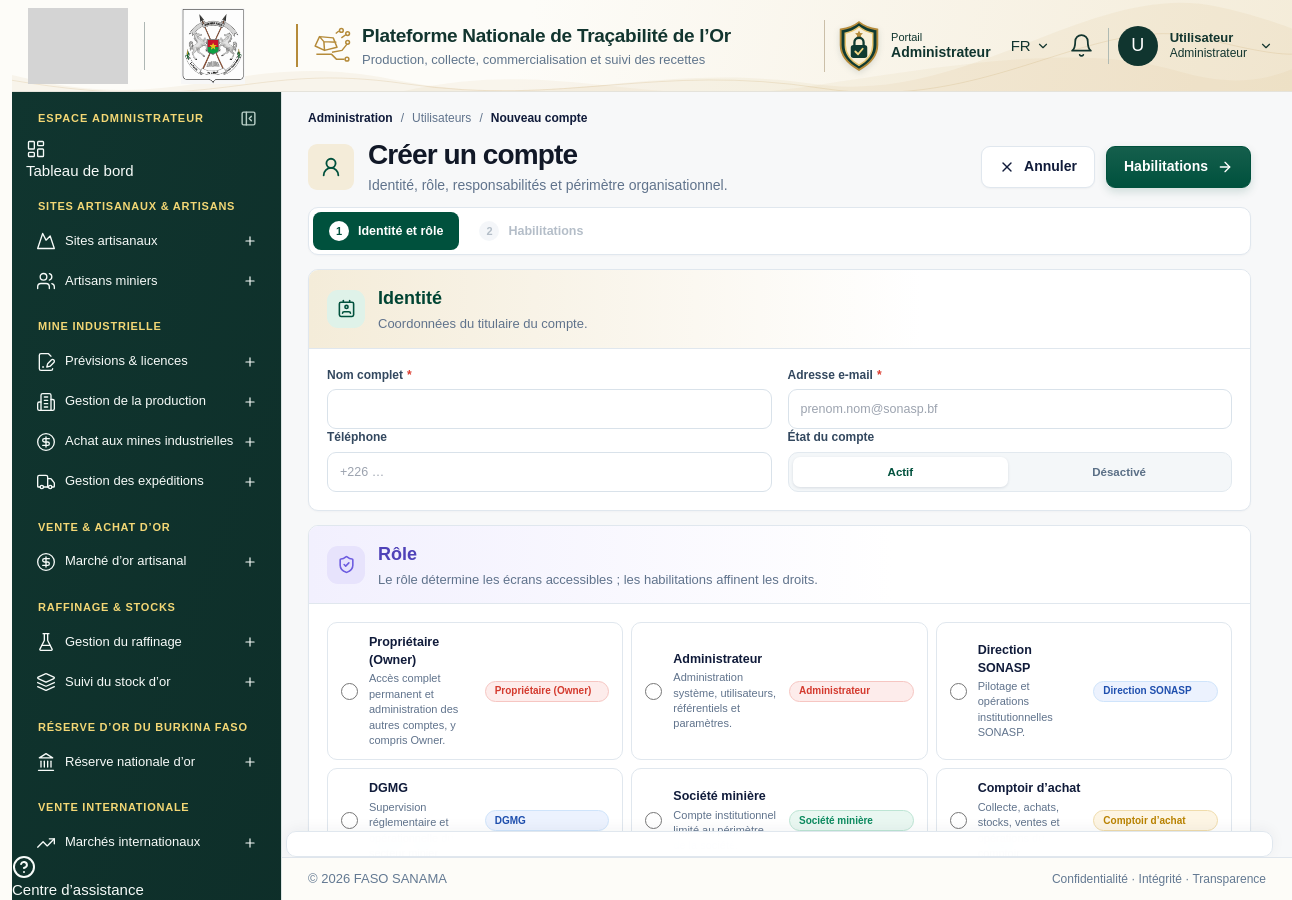
UserManagementModern › présente uniquement les responsabilités compatibles avec le rôle
The width and height of the screenshot is (1292, 900).
Expected: the field labelled "Nom complet *" is shown, [327,389,772,429]
Click the radio button labelled "Direction SONASP": (958, 691) [950,683,967,700]
(page scrolled)
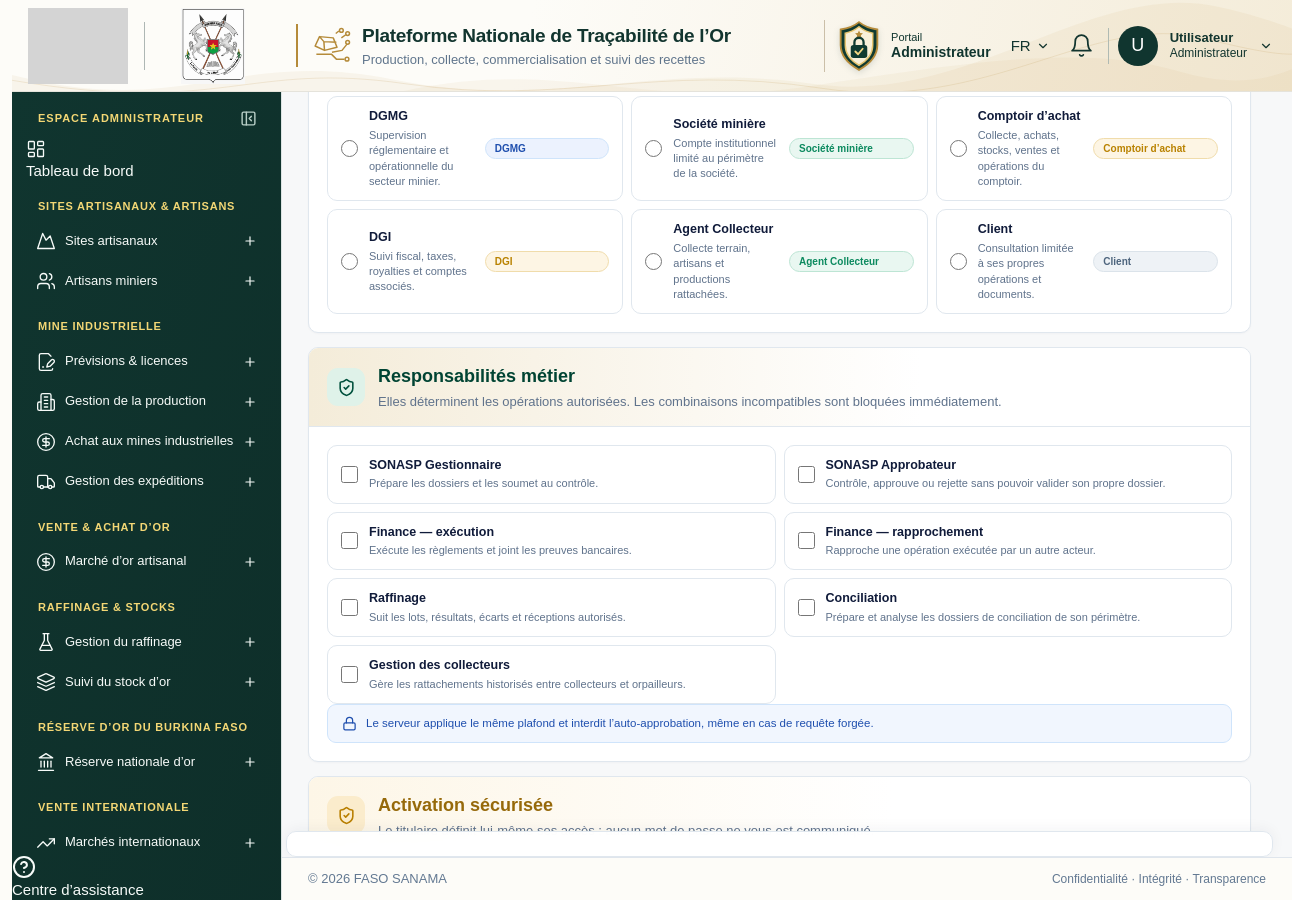
Expected: the checkbox labelled "SONASP Gestionnaire" is shown, [341,466,358,483]
Expected: the checkbox labelled "SONASP Approbateur" is shown, [798,466,814,483]
